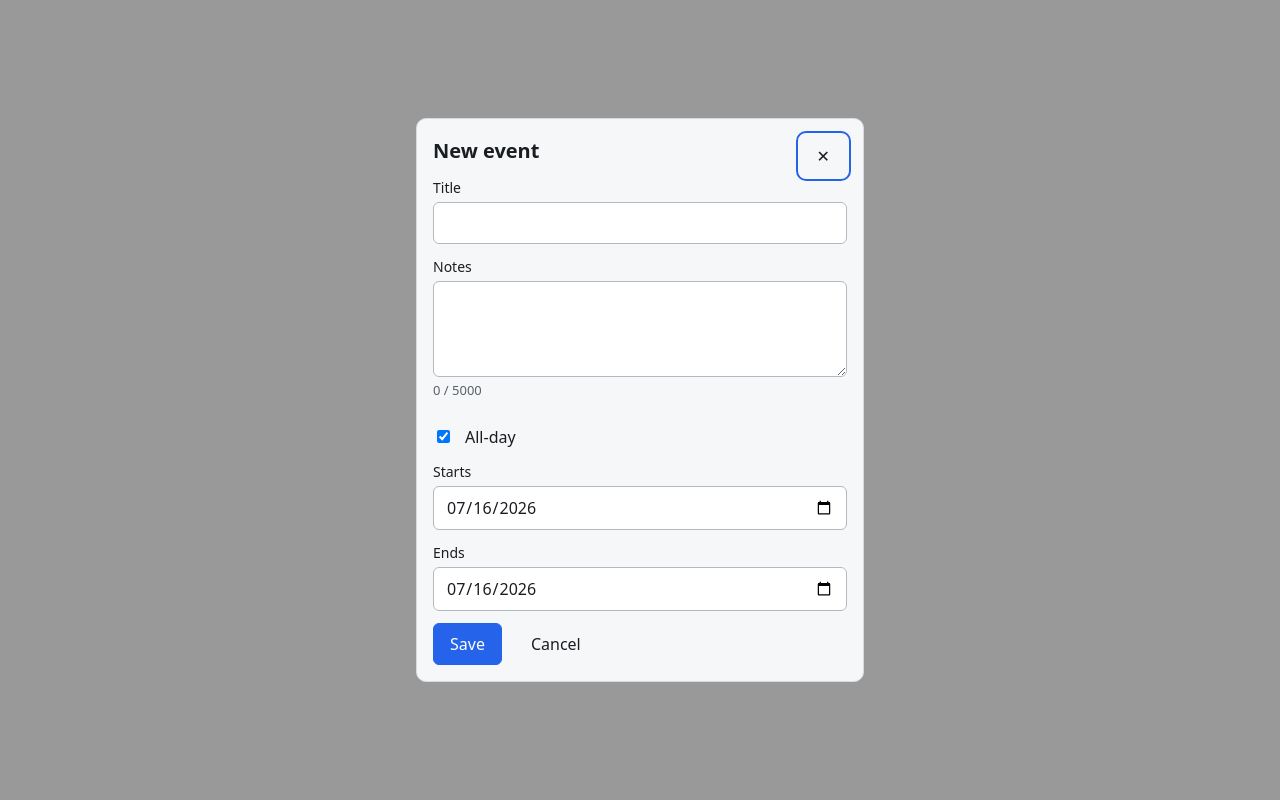
Scenario: EventFormModal — validation › rejects a timed end time that is not after the start time
The width and height of the screenshot is (1280, 800).
Type "Same time" into the field labelled "Title" at [640, 223], box [433, 202, 847, 244]
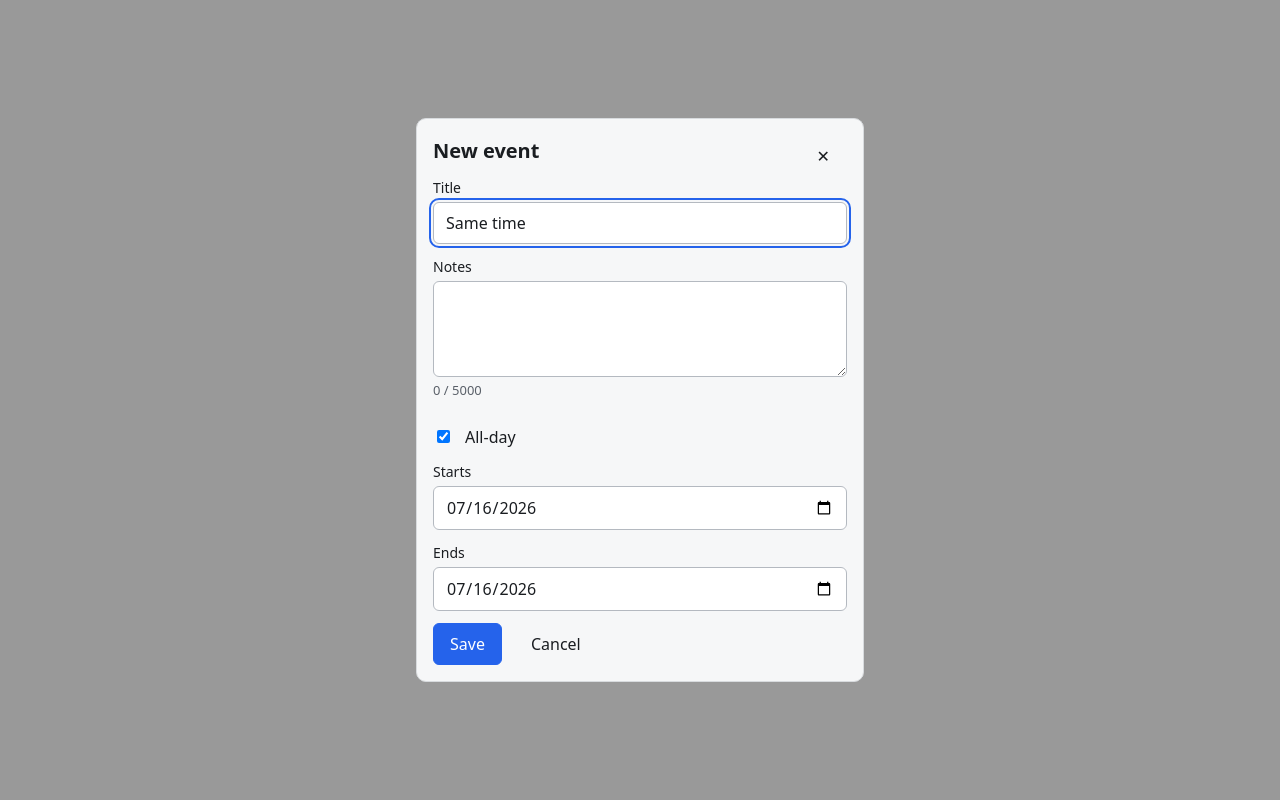
Click the checkbox at [444, 437], box [437, 430, 450, 443]
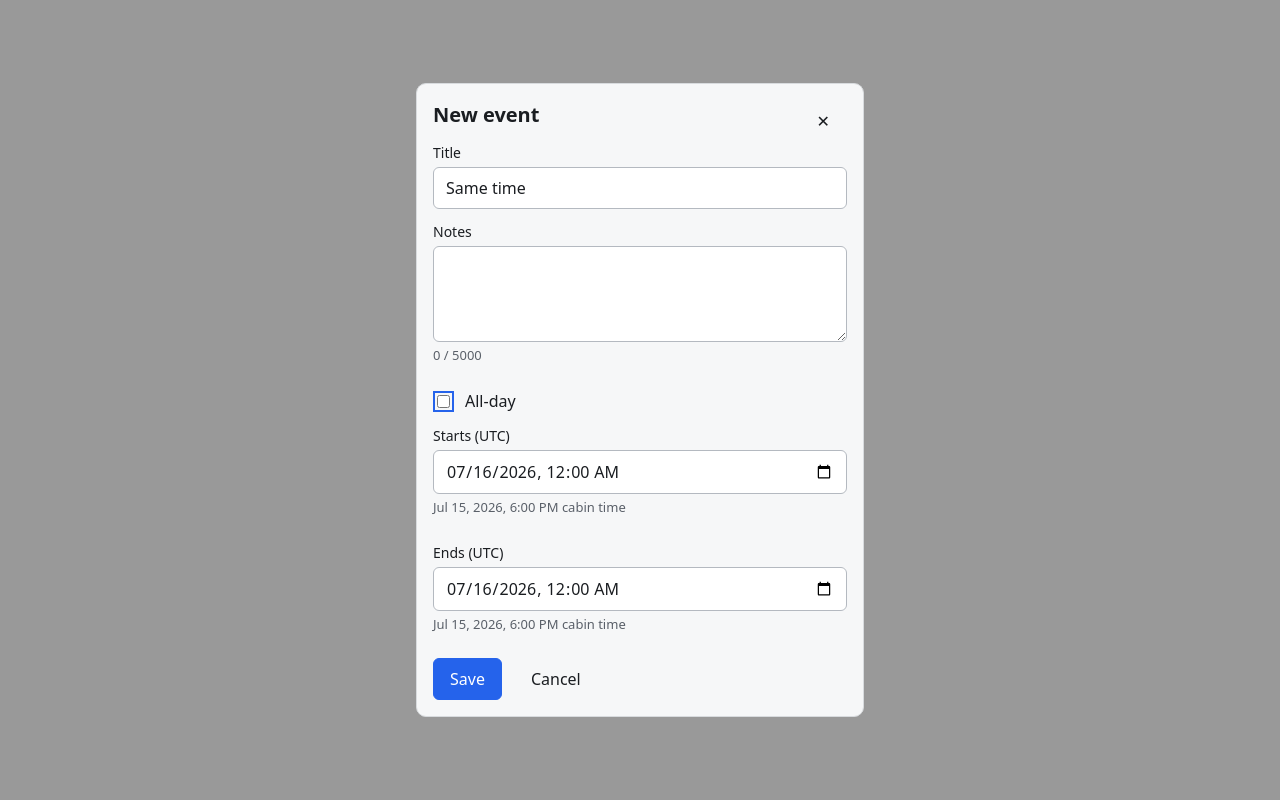
Replace the text in the field labelled "Starts (UTC)" with "2026-07-16T15:00" at [640, 472], box [433, 450, 847, 494]
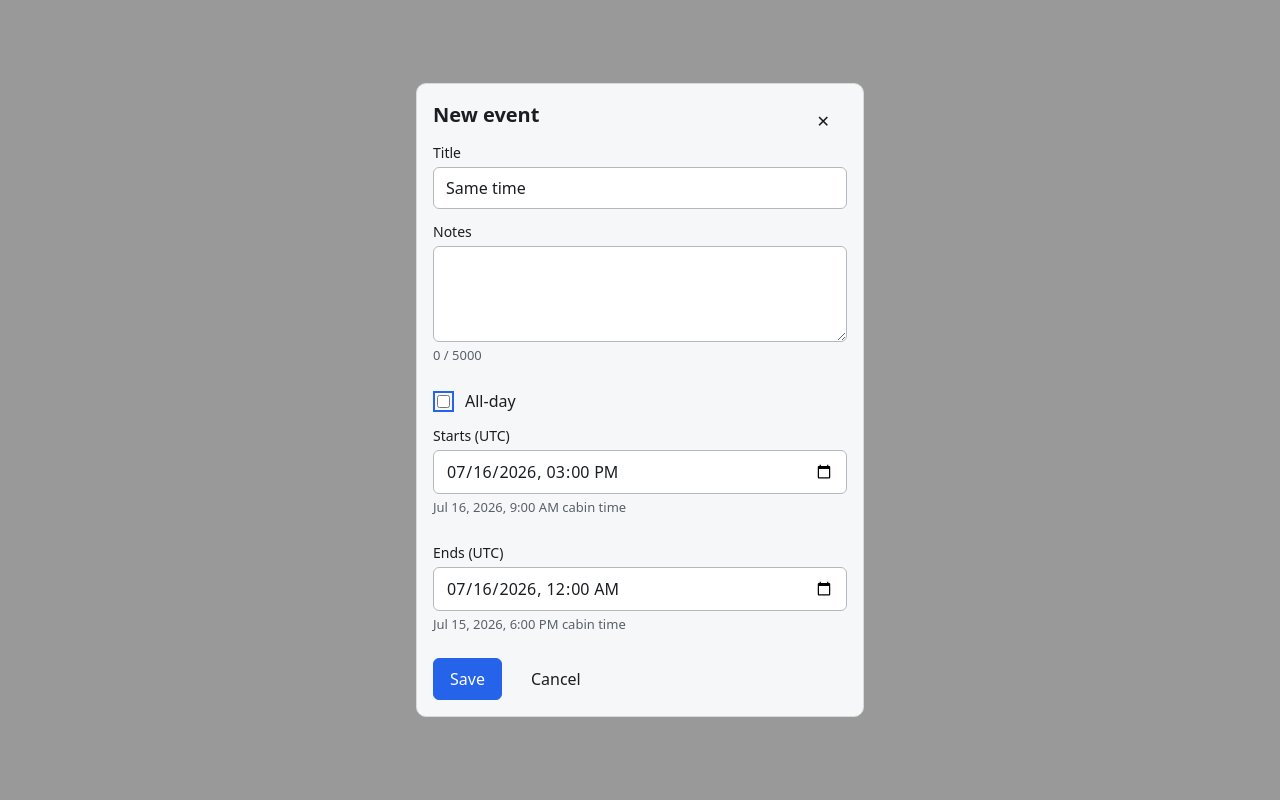
Replace the text in the field labelled "Ends (UTC)" with "2026-07-16T15:00" at [640, 589], box [433, 567, 847, 611]
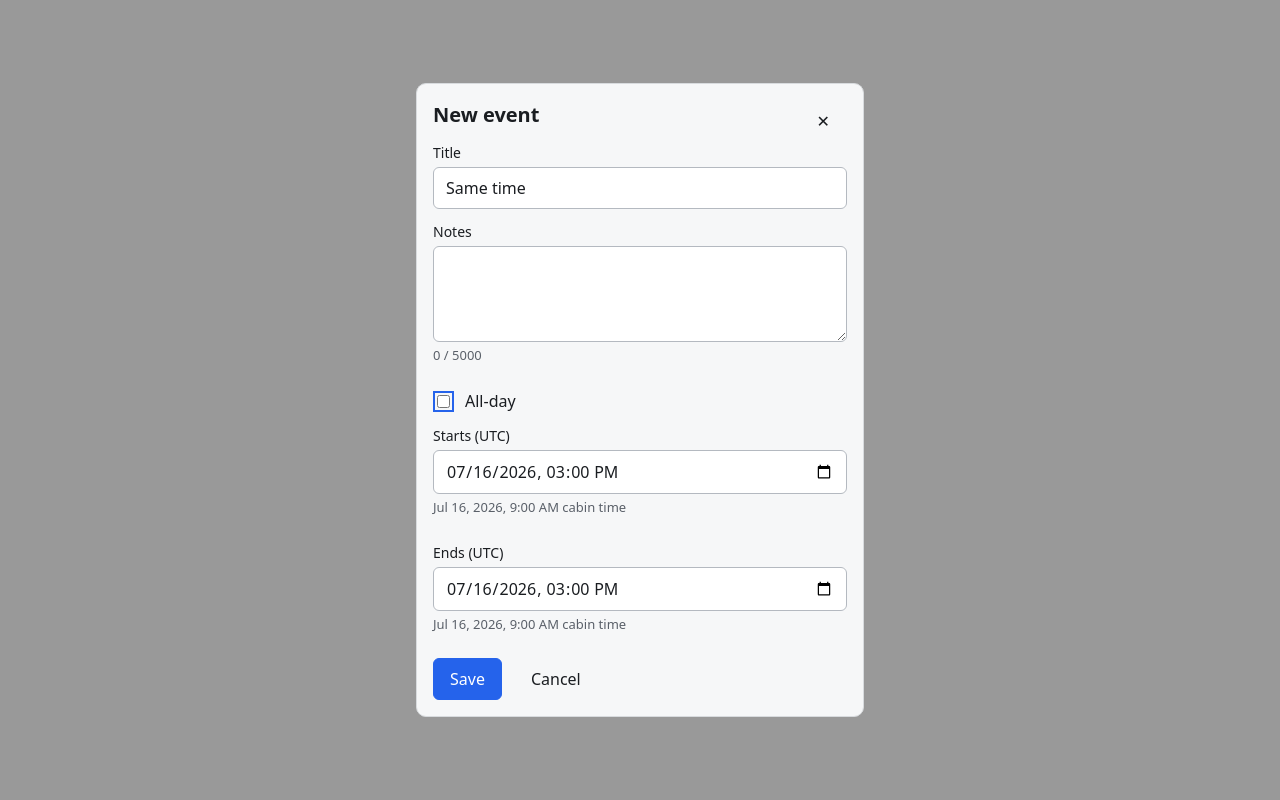
Click the button "Save" at [467, 679], box [433, 658, 502, 700]
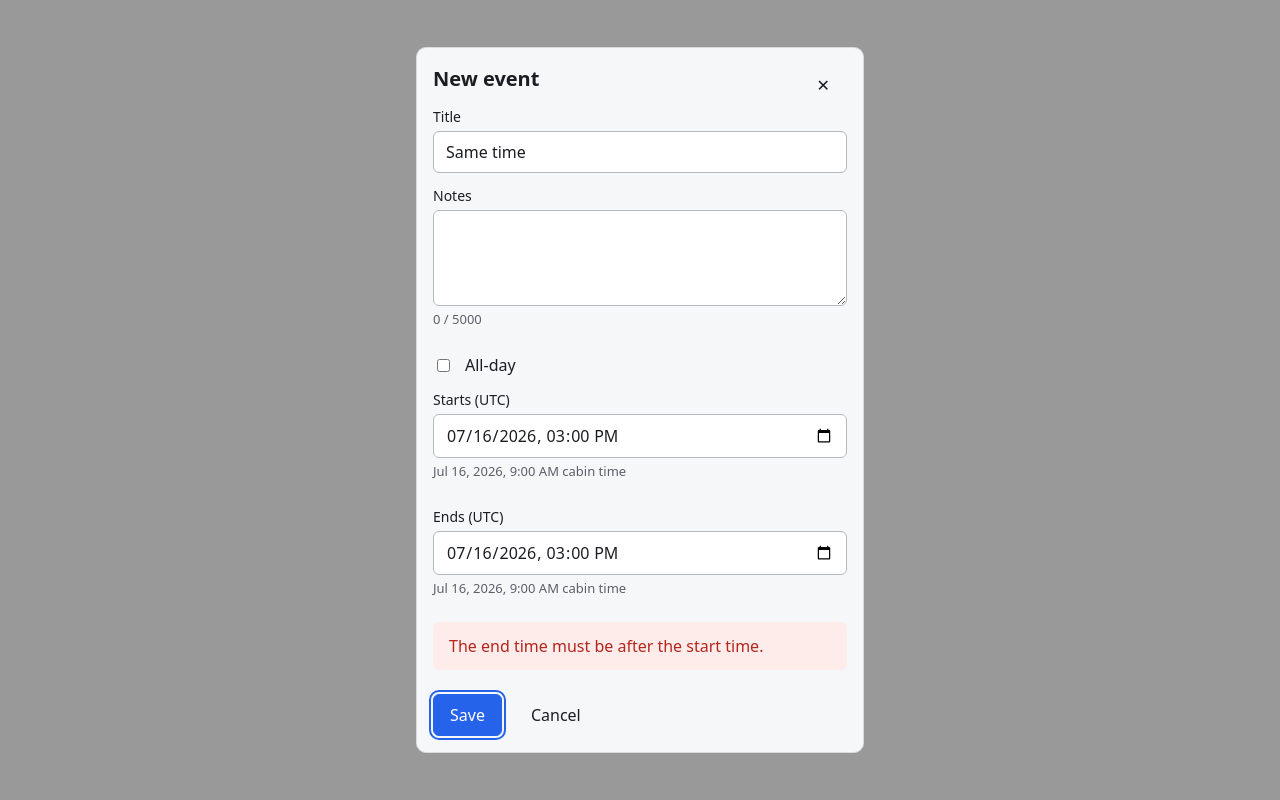
Now the text "The end time must be after the start time." is shown, box [433, 622, 847, 670]
